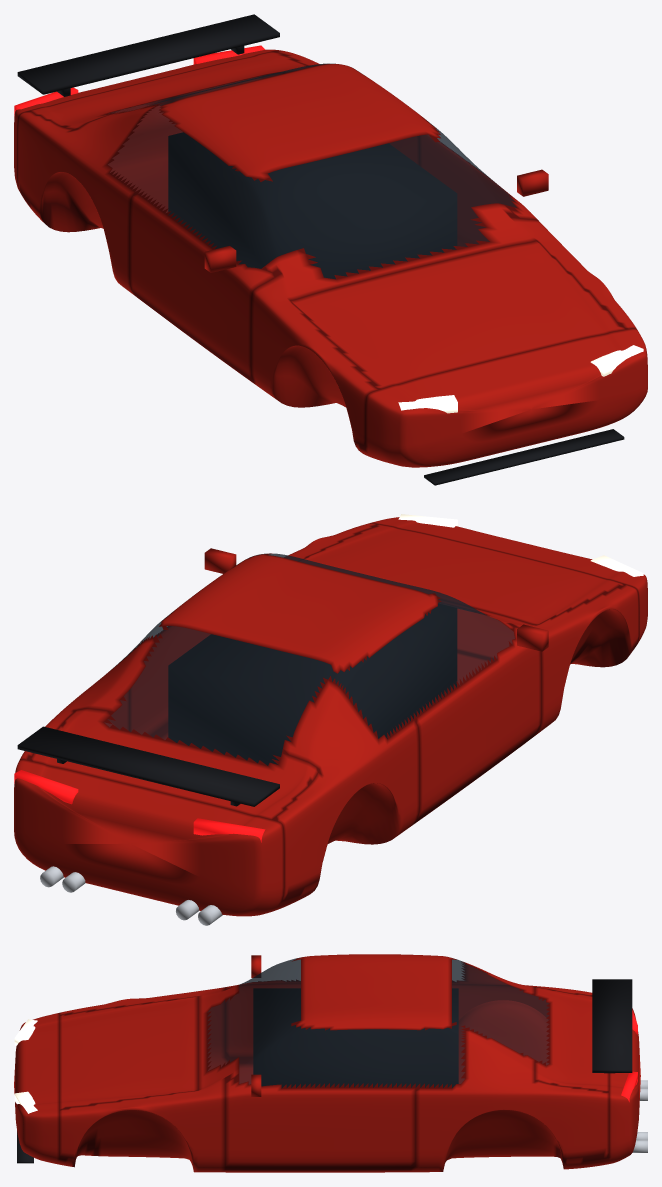
File: sport.glb
The picture shows the model from 3 angles, top to bottom: view 1: azimuth 30°, elevation 25°; view 2: azimuth 150°, elevation 25°; view 3: azimuth 270°, elevation 25°; orthographic projection. The views are drawn at different scales.
Parts seen in each view (by area): view 1: body, interior, hood, bumper_F, glass_front, glass_R, door_FR, bumper_R, wing, trunk, door_FL, splitter (+6 smaller); view 2: body, bumper_R, interior, glass_rear, hood, door_FR, glass_R, trunk, bumper_F, wing, door_FL, glass_front (+4 smaller); view 3: body, door_FL, interior, hood, glass_L, glass_rear, bumper_F, glass_front, trunk, wing, bumper_R, door_FR (+1 smaller).
Part boxes in pixels (x1,y1,x2,y2): body: (17,50,636,449); interior: (168,132,457,279); hood: (291,240,625,389); bumper_F: (354,328,647,467); glass_front: (268,134,489,279); glass_R: (108,103,303,268); door_FR: (129,189,281,382); bumper_R: (14,49,283,232); wing: (17,14,279,94); trunk: (28,51,307,130); door_FL: (419,134,538,246); splitter: (424,429,624,485); body: (20,523,638,900); bumper_R: (14,759,319,916); interior: (168,603,457,765); glass_rear: (104,626,332,765); hood: (299,524,625,624); door_FR: (413,623,541,822); glass_R: (326,593,514,738); trunk: (28,708,320,820); bumper_F: (371,517,647,667); wing: (17,726,279,806); door_FL: (129,626,210,737); glass_front: (269,553,472,611); body: (59,954,609,1172); door_FL: (225,1076,415,1169); interior: (253,988,458,1087); hood: (59,996,198,1109); glass_L: (239,1023,464,1087); glass_rear: (452,959,549,1065); bumper_F: (14,1013,97,1167); glass_front: (207,959,300,1070); trunk: (535,987,609,1092); wing: (592,979,632,1072); bumper_R: (557,1008,640,1169); door_FR: (225,979,300,1062).
Bounding box in the file's own units: 2.14 × 1.13 × 4.45.
